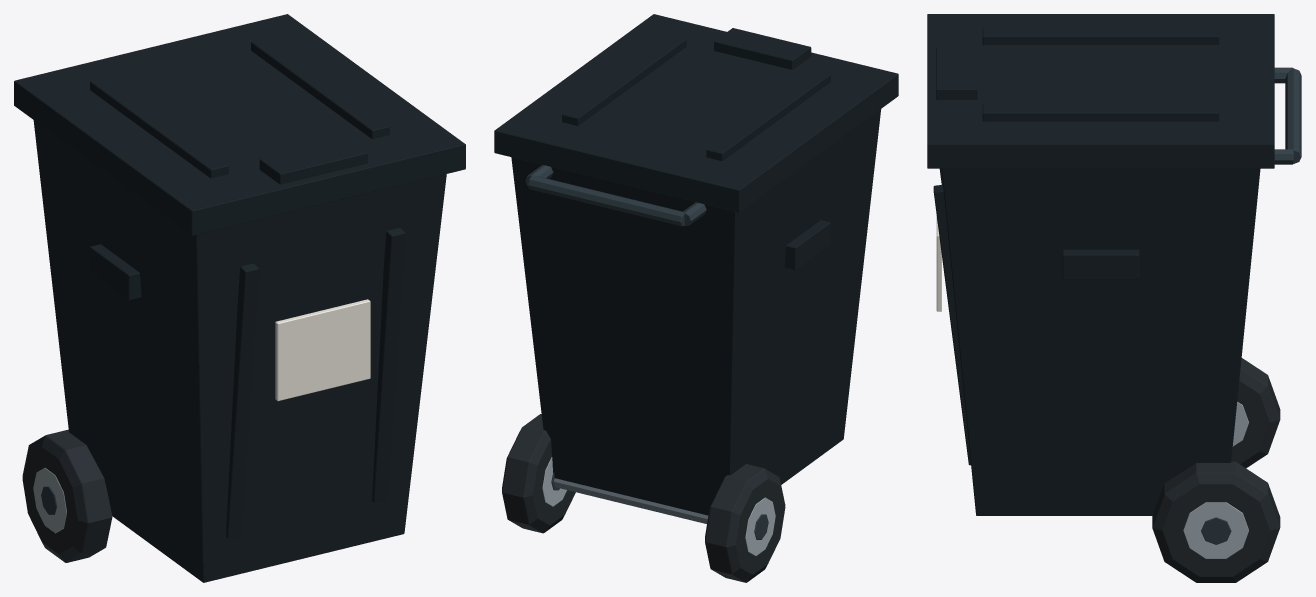
The model's file is b04_household_lidded_refuse_cart.glb.
3 views of the same model, side by side, from view 1: azimuth 30°, elevation 25°; view 2: azimuth 150°, elevation 25°; view 3: azimuth 270°, elevation 25° (orthographic). The views are drawn at different scales.
Parts seen in each view (by area): view 1: b04_household_lidded_refuse_cart; view 2: b04_household_lidded_refuse_cart; view 3: b04_household_lidded_refuse_cart.
Part boxes in pixels (x1,y1,x2,y2): b04_household_lidded_refuse_cart: (14, 14, 465, 582); b04_household_lidded_refuse_cart: (494, 14, 898, 582); b04_household_lidded_refuse_cart: (927, 14, 1301, 582).
Bounding box in the file's own units: 0.675 × 1.1 × 0.819.
